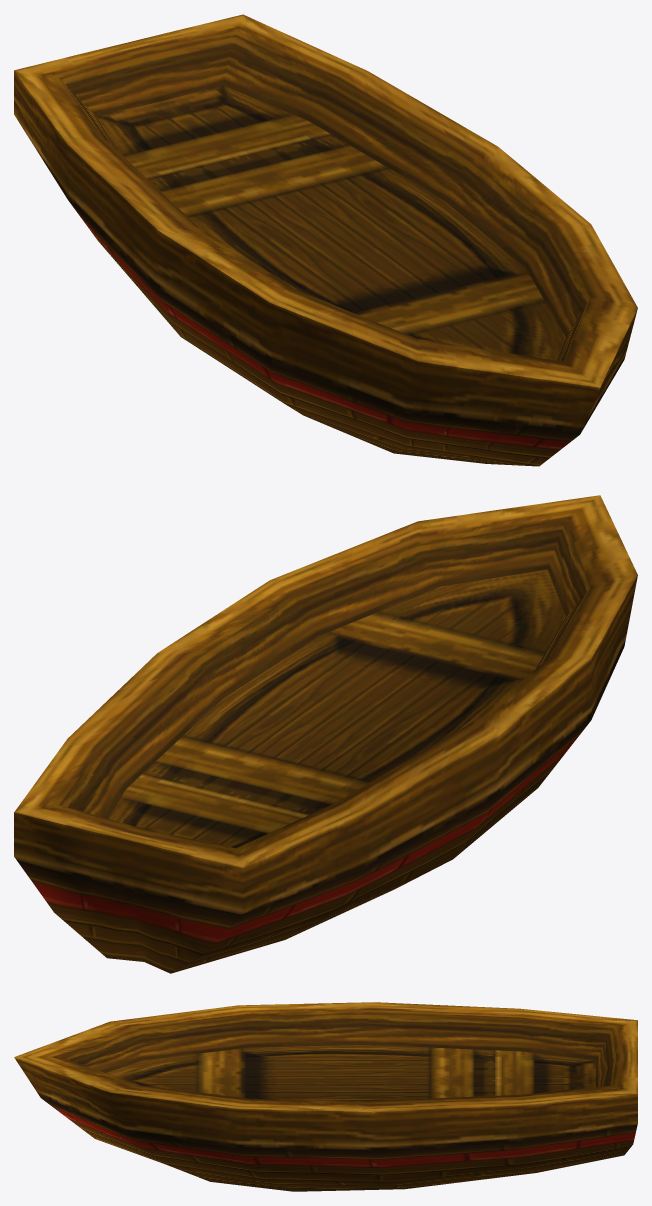
File: INST_LT_BOAT.fbx
The picture shows the model from 3 angles, top to bottom: view 1: azimuth 30°, elevation 25°; view 2: azimuth 150°, elevation 25°; view 3: azimuth 270°, elevation 25°; orthographic projection. The views are drawn at different scales.
Visible parts, largest first — view 1: INST_LT_BOAT; view 2: INST_LT_BOAT; view 3: INST_LT_BOAT.
Part boxes in pixels (left/top/right/bottom): INST_LT_BOAT: left=14, top=14, right=637, bottom=466; INST_LT_BOAT: left=14, top=495, right=637, bottom=973; INST_LT_BOAT: left=14, top=1002, right=637, bottom=1191.
Bounding box in the file's own units: 11756 × 5950 × 28179.
2 materials, 2 textured.
